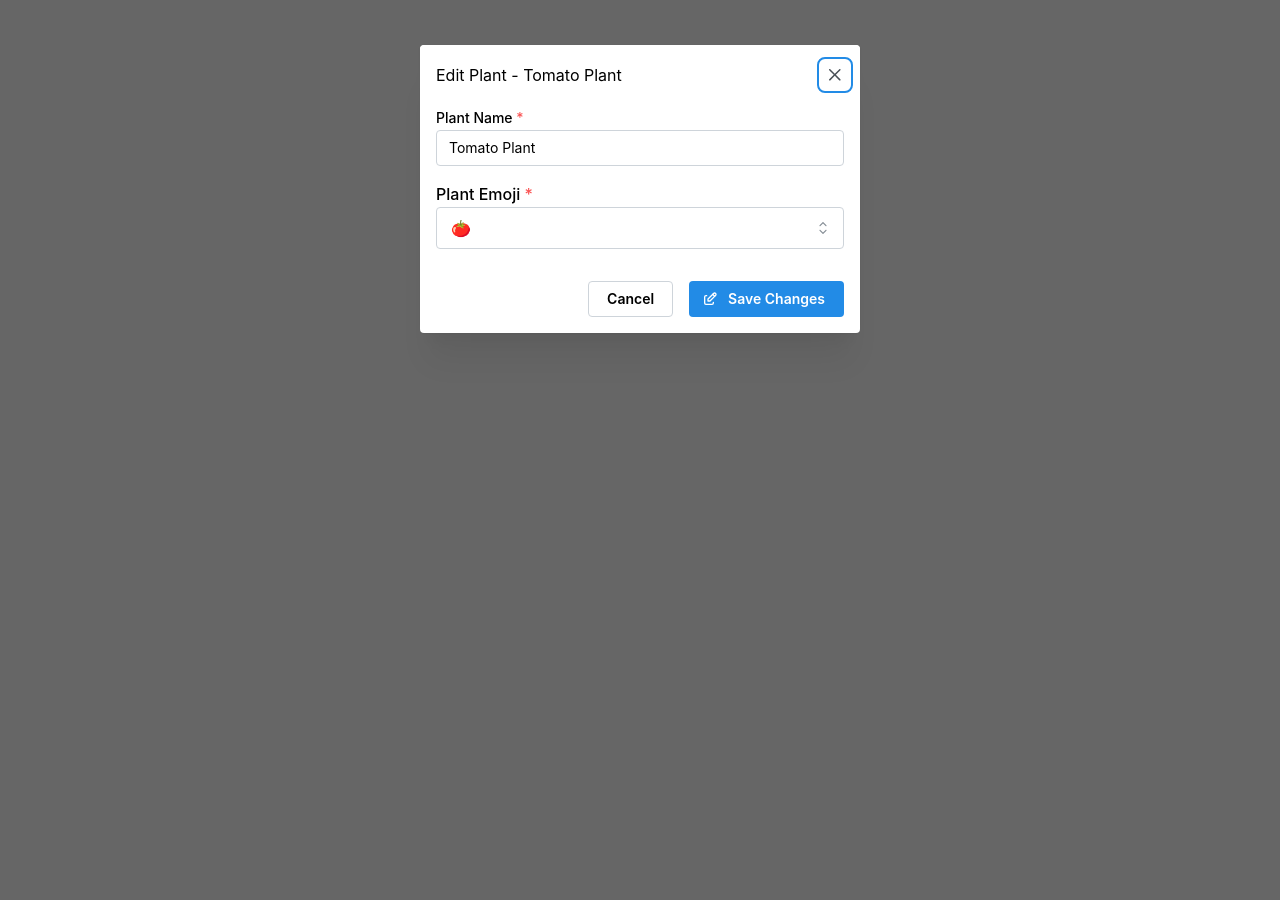
PlantEditModal Component › Form Interaction › provides common emoji options
Click the field with placeholder "Choose an emoji" at (640, 228), box [436,207,844,249]
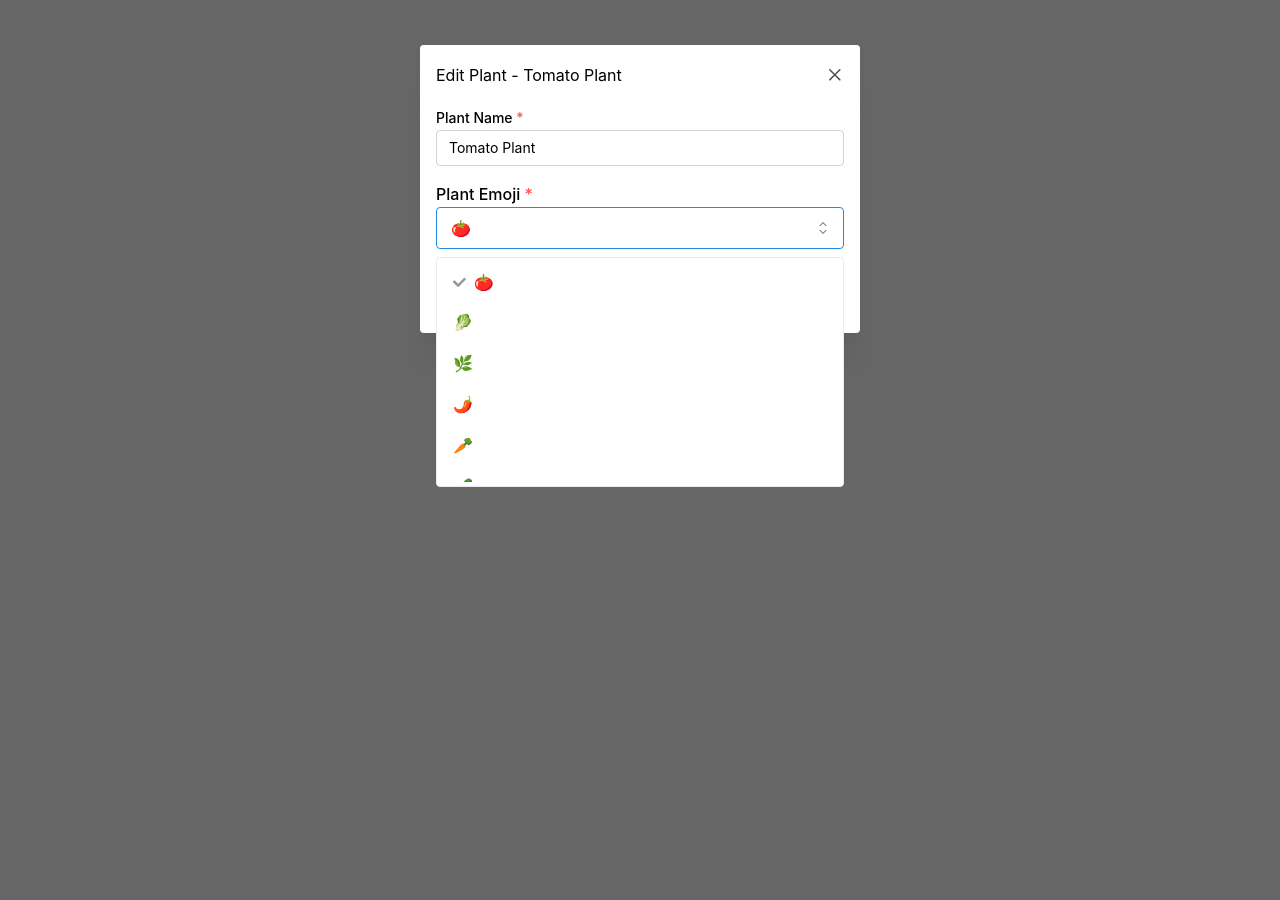
expect the text "🍅" is shown: met, box [474,270,494,294]
expect the text "🥬" is shown: met, box [453,310,473,335]
expect the text "🌿" is shown: met, box [453,351,473,376]
